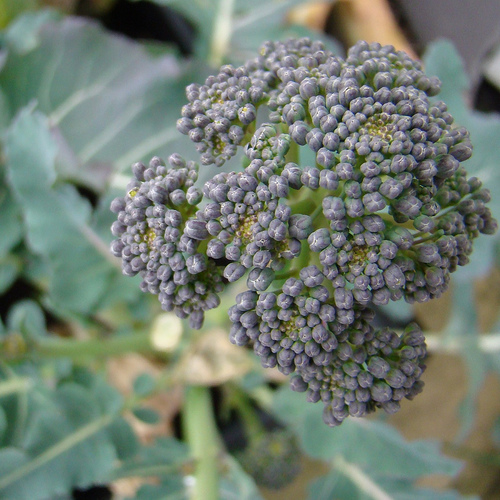broccoli: (110, 36, 483, 420)
